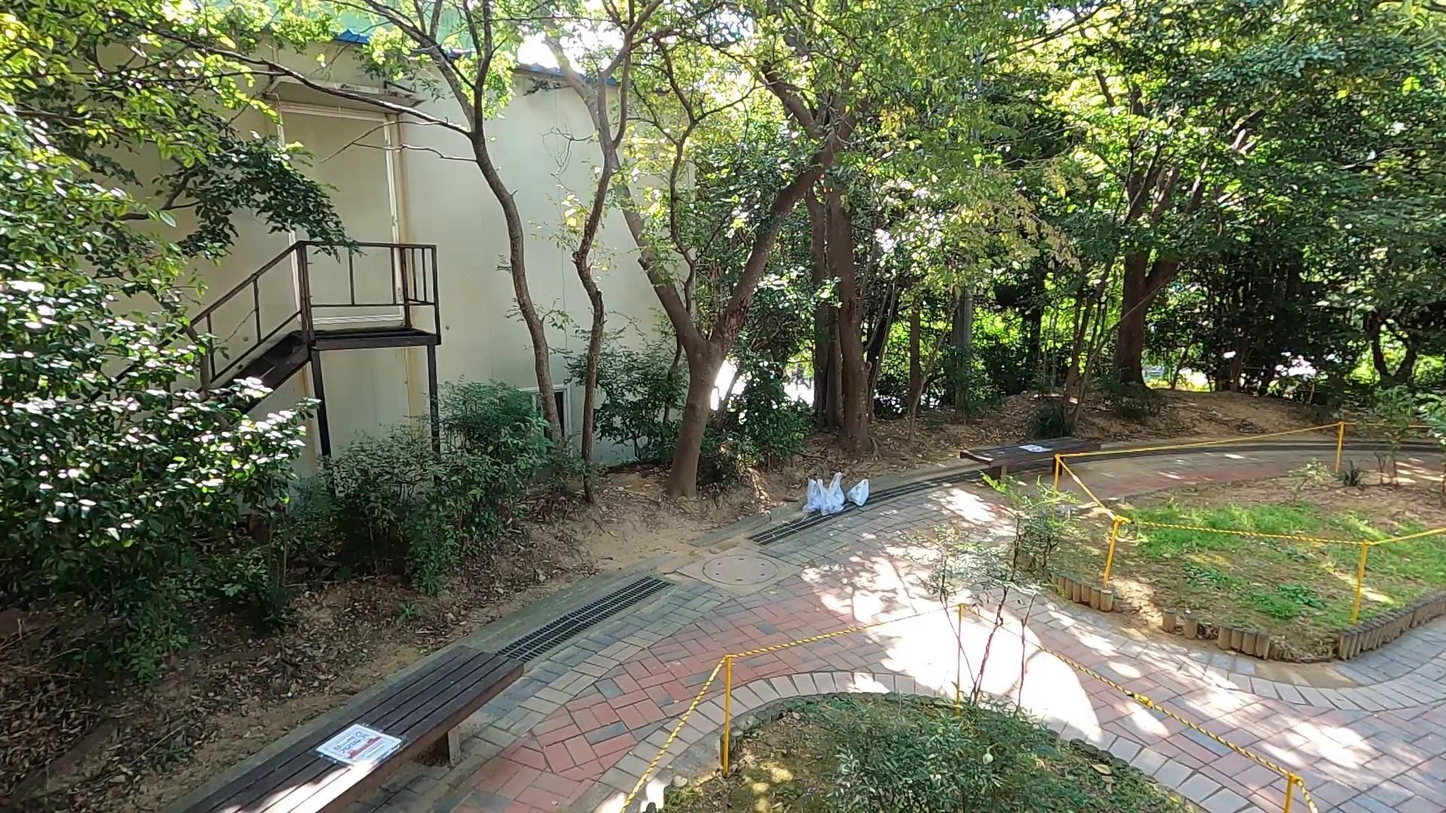trash: (815, 470, 846, 513), (844, 475, 875, 513), (803, 479, 832, 514)
